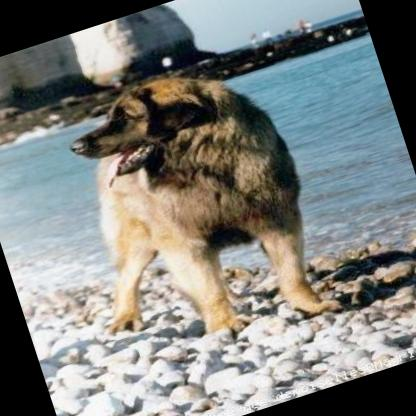Leonberg: (39, 41, 338, 376)
